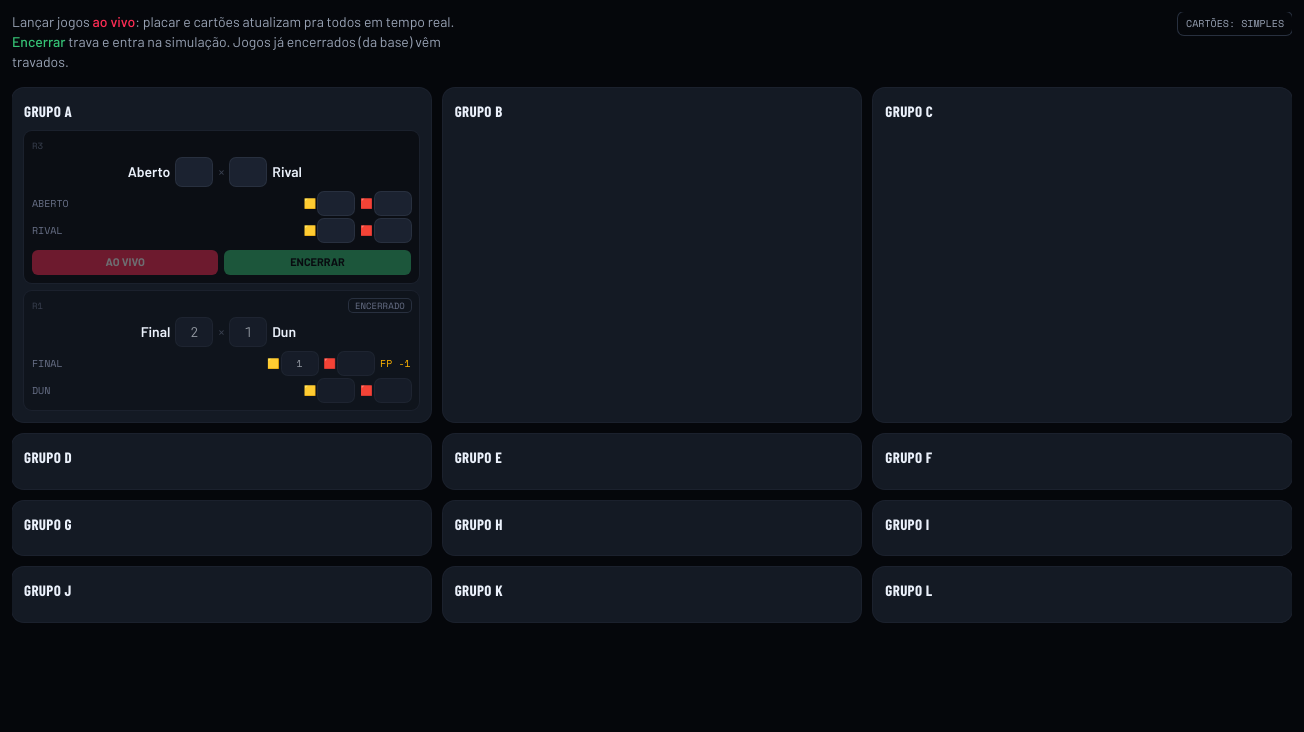
Test case: <AdminPanel> — controle ao vivo › o toggle "detalhado" expõe 2º amarelo e amarelo+vermelho
Click the button "cartões: simples": coordinates (1235, 24) x1=1178 y1=12 x2=1292 y2=35
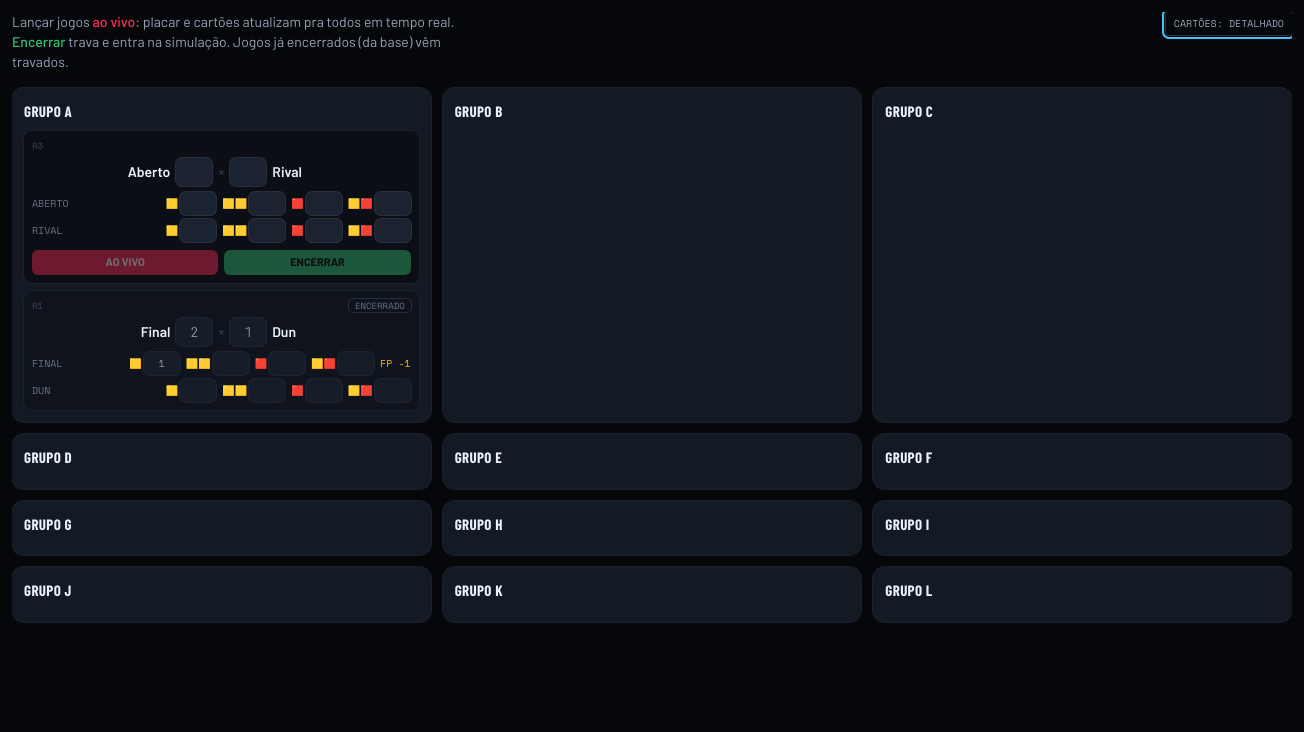
Expected: the number field named "2º amarelo " is shown, x1=249 y1=192 x2=285 y2=215
